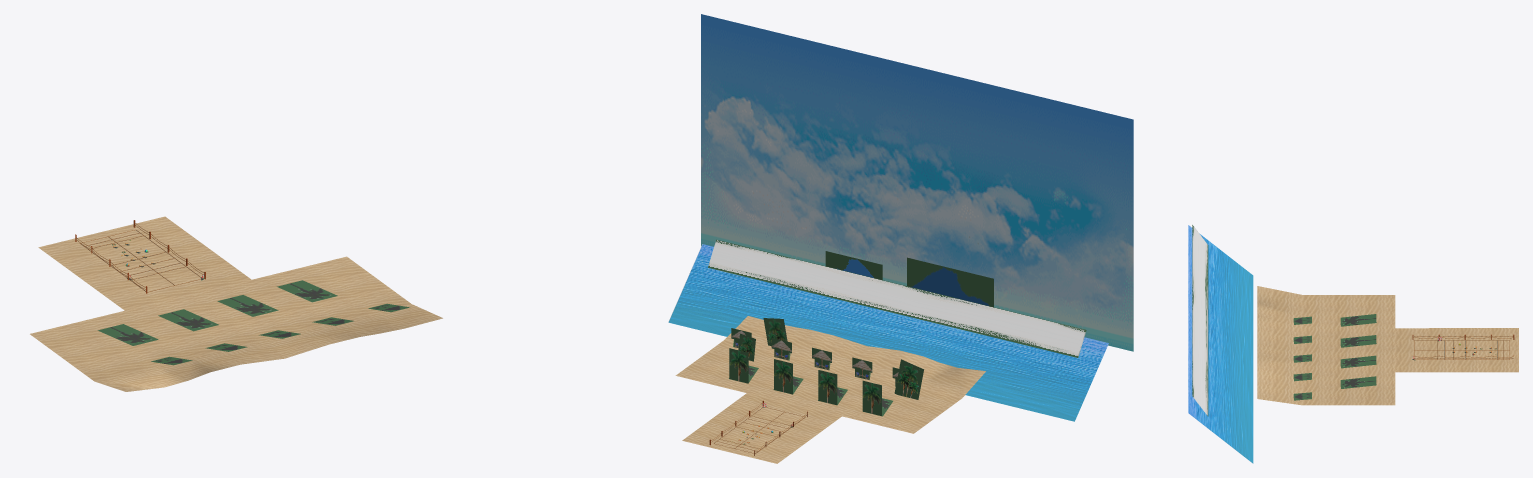
The model's file is EnvironmentC.glb.
3 renders of one model, left to right at view 1: azimuth 30°, elevation 25°; view 2: azimuth 150°, elevation 25°; view 3: azimuth 270°, elevation 25°, orthographic. The views are drawn at different scales.
Parts seen in each view (by area): view 1: EnvironmentC_High; view 2: EnvironmentC_High; view 3: EnvironmentC_High.
Part boxes in pixels (x1,y1,x2,y2): EnvironmentC_High: [30, 216, 442, 391]; EnvironmentC_High: [668, 14, 1133, 463]; EnvironmentC_High: [1188, 225, 1518, 463].
Size of the model in its own units: 175 by 104 by 131.
2 materials, 2 textured.
